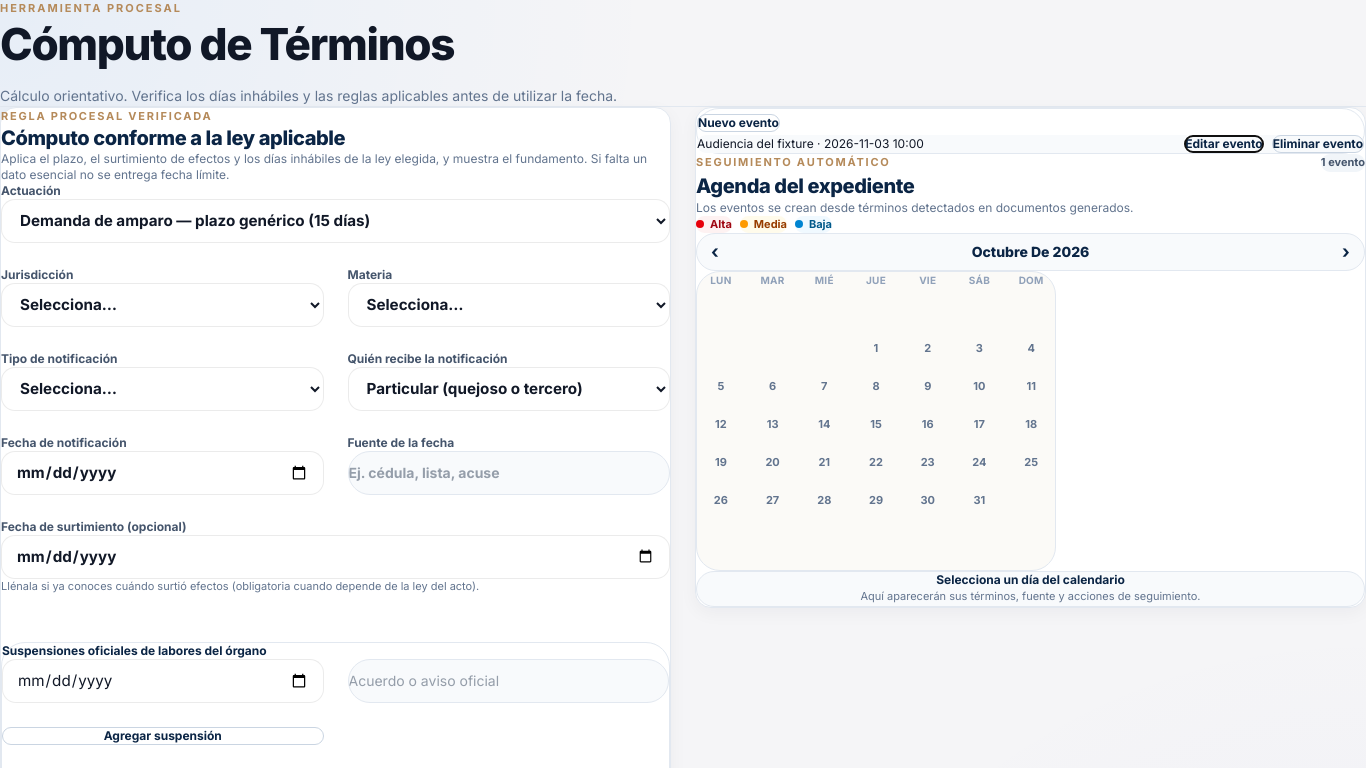
escritorio: «Editar evento» abre el formulario en un panel lateral con los datos del evento; Esc lo cierra y devuelve el foco
The width and height of the screenshot is (1366, 768).
Click the button "Editar evento" at (1224, 144), box [1184,135,1264,153]
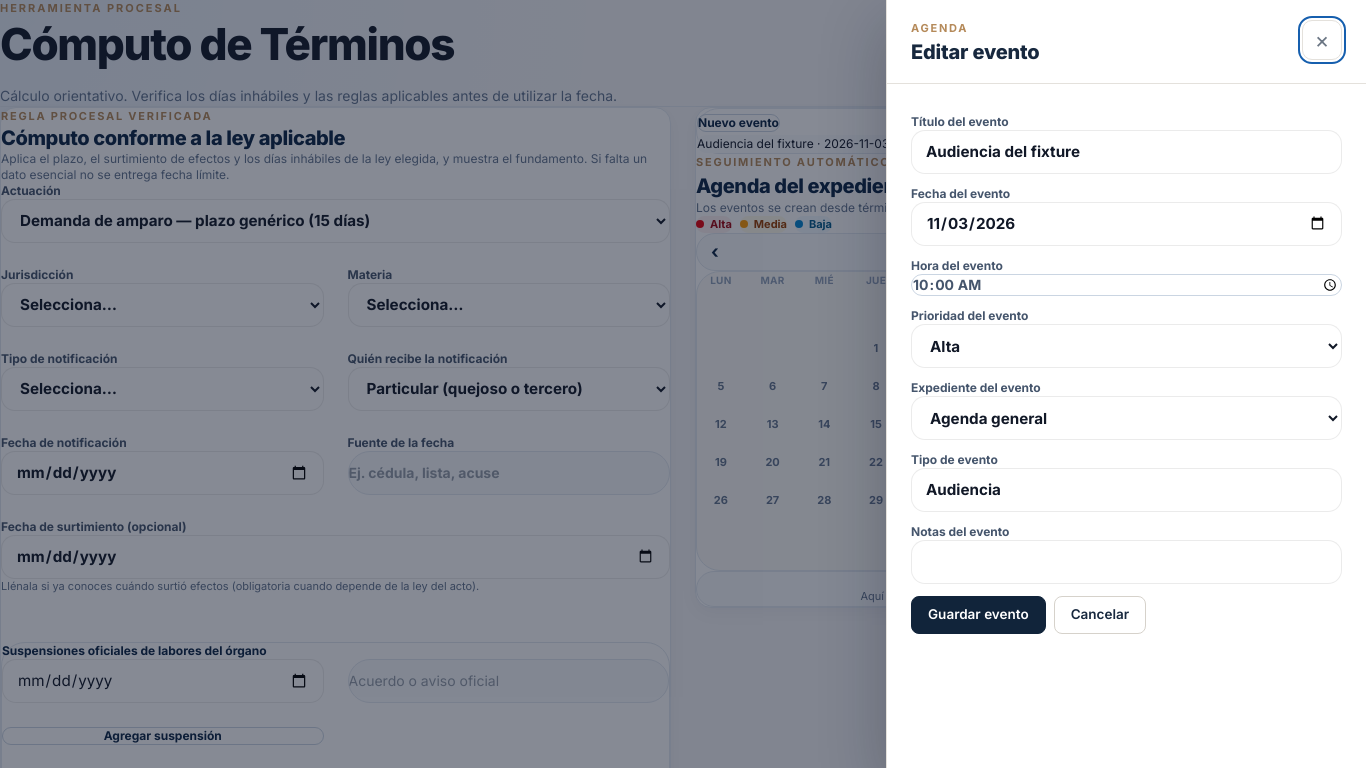
Expected: the field labelled "Título del evento" holds "Audiencia del fixture", [911,130,1342,174]
Expected: the date field labelled "Fecha del evento" holds "2026-11-03", [911,202,1342,246]
Press Escape
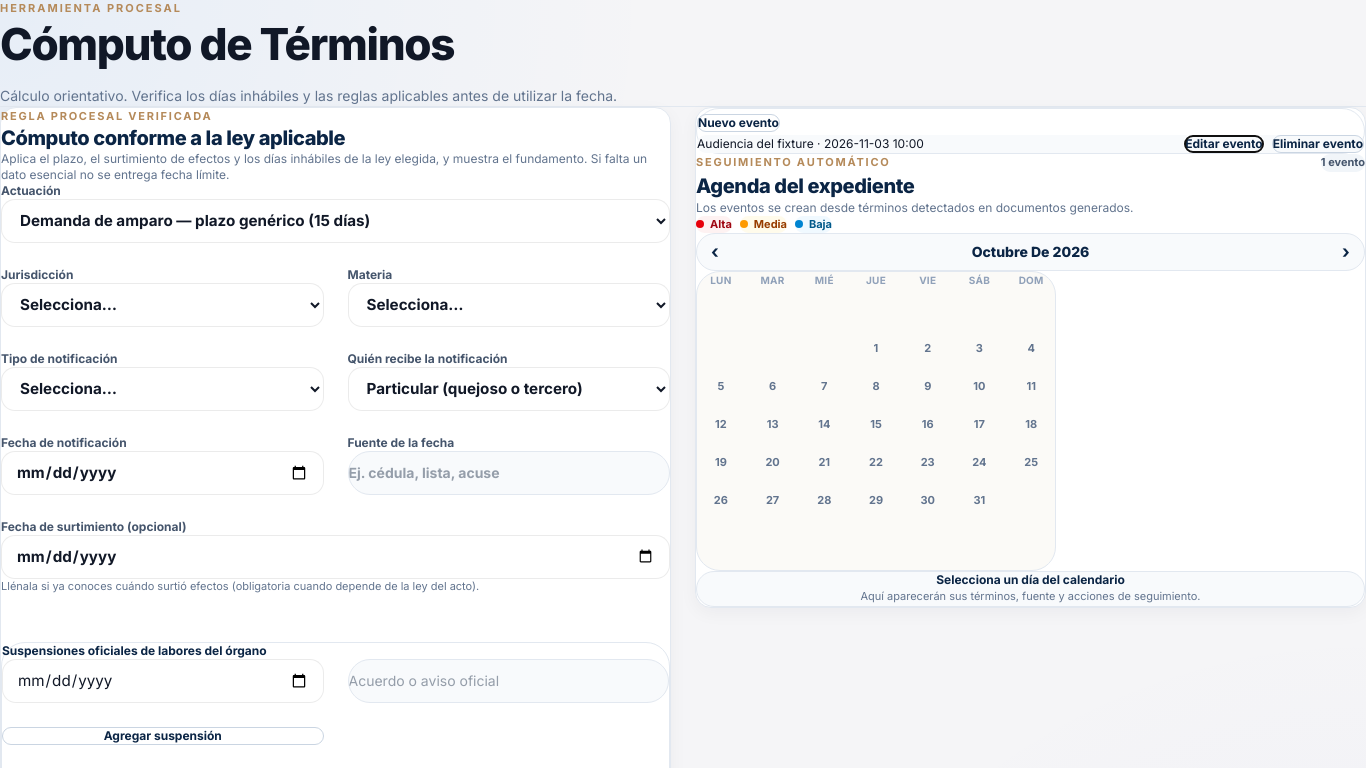
Expected: the dialog is gone
